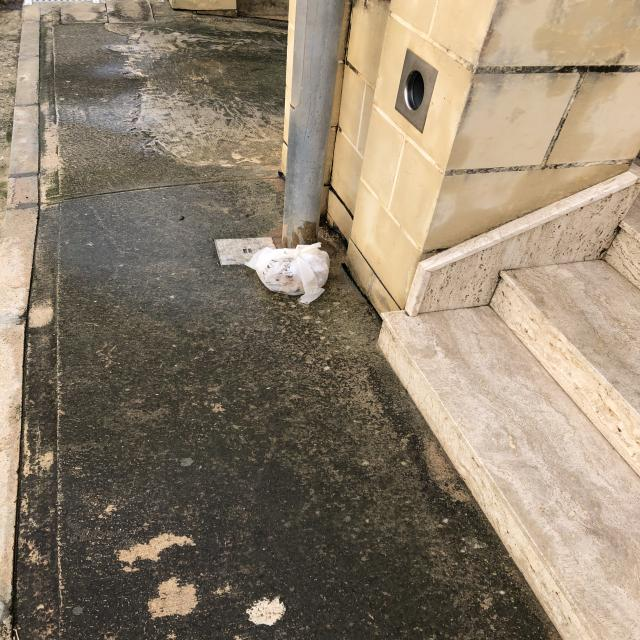Organic Waste -White Bag-: (241, 241, 339, 313)
